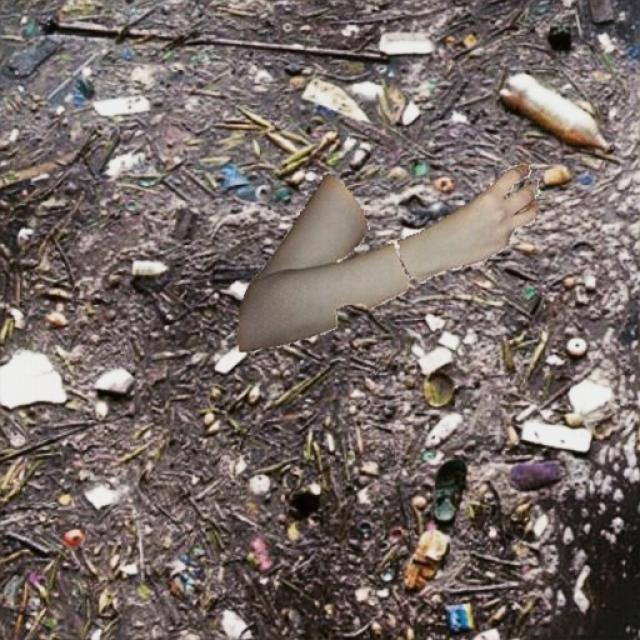Person in Rubble: (238, 164, 538, 352)
